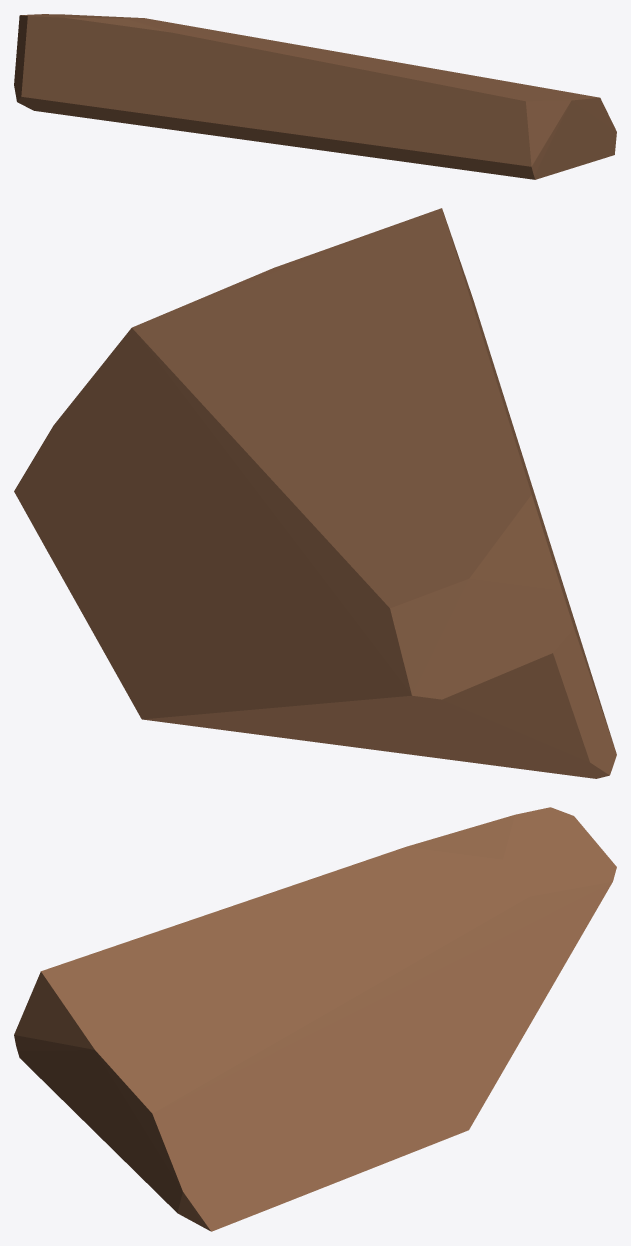
The model's file is WoodCellCube_003_cell_003.fbx.
3 views of the same model, one above another, from view 1: azimuth 30°, elevation 25°; view 2: azimuth 150°, elevation 25°; view 3: azimuth 270°, elevation 25° (orthographic). The views are drawn at different scales.
Parts seen in each view (by area): view 1: WoodCellCube_003_cell_003; view 2: WoodCellCube_003_cell_003; view 3: WoodCellCube_003_cell_003.
Part boxes in pixels (x1,y1,x2,y2): WoodCellCube_003_cell_003: (14,14,616,179); WoodCellCube_003_cell_003: (14,208,616,778); WoodCellCube_003_cell_003: (14,807,616,1231).
Bounding box in the file's own units: 1.14 × 0.3673 × 1.2.
1 material, 1 textured.
